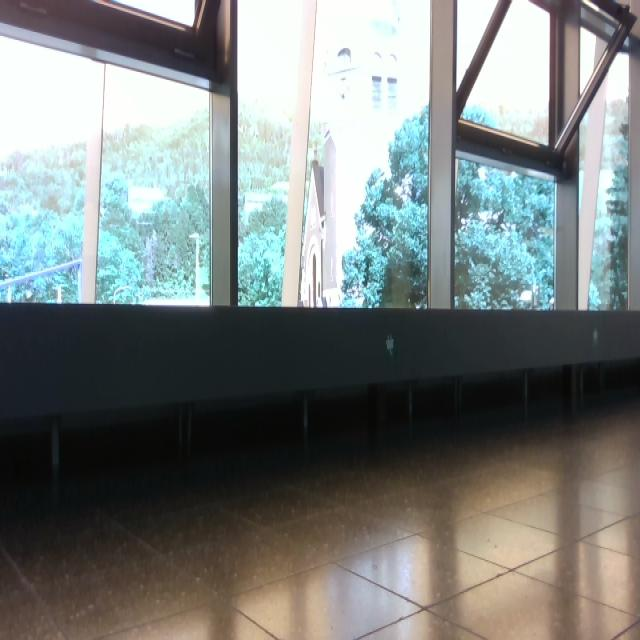door: (96, 61, 212, 305)
light bulb: (188, 232, 202, 298), (337, 46, 353, 100), (371, 50, 383, 108), (387, 53, 399, 100), (386, 334, 395, 356), (477, 165, 487, 181)
tiled floor: (2, 395, 639, 639)
window: (1, 1, 639, 314)
